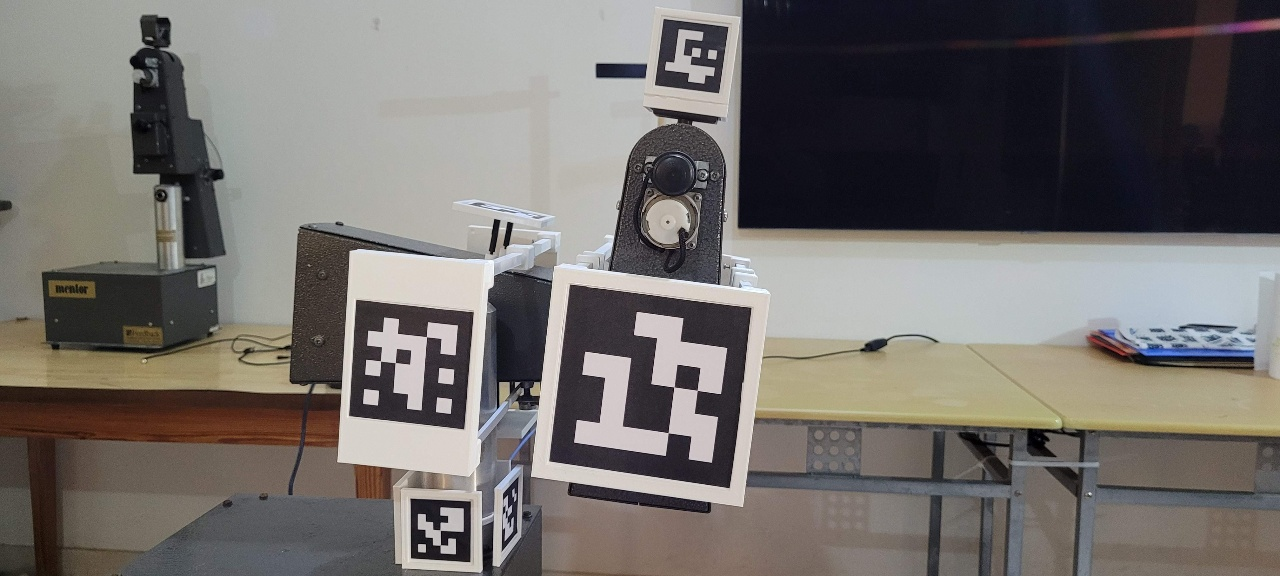Robot: (288, 5, 774, 576)
